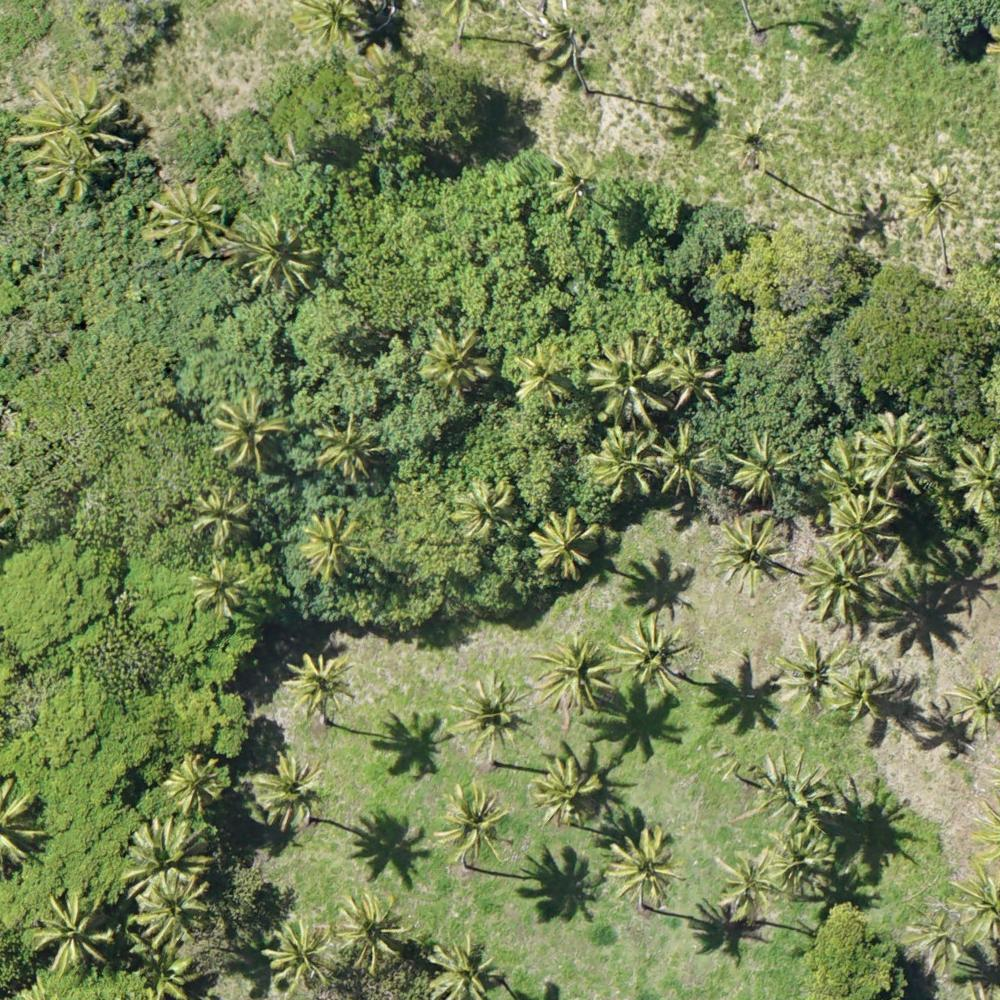Palm: (121, 815, 220, 905), (25, 72, 128, 157), (530, 632, 619, 716), (225, 213, 319, 292), (585, 343, 669, 429), (854, 410, 938, 494), (450, 674, 534, 754), (749, 746, 831, 827), (804, 542, 882, 623), (439, 778, 514, 860), (705, 846, 783, 924), (711, 511, 790, 588), (254, 750, 331, 829), (36, 892, 113, 971), (204, 393, 285, 468), (611, 622, 690, 698), (604, 827, 678, 907), (335, 891, 409, 969), (265, 912, 336, 993), (724, 431, 796, 509), (772, 631, 839, 714), (148, 184, 221, 256), (528, 511, 602, 581), (586, 430, 655, 505), (313, 408, 383, 481), (528, 757, 601, 826), (823, 493, 893, 564), (422, 933, 498, 998), (135, 874, 207, 940), (765, 831, 834, 899), (285, 654, 355, 721), (656, 419, 716, 496), (32, 134, 99, 202), (299, 514, 371, 577), (418, 330, 491, 392), (904, 901, 965, 973), (451, 475, 519, 538), (899, 169, 964, 233), (515, 343, 579, 407), (188, 483, 250, 547), (186, 558, 246, 622), (166, 750, 225, 813), (661, 347, 725, 405), (545, 154, 606, 213), (835, 665, 896, 722), (726, 115, 783, 171)
